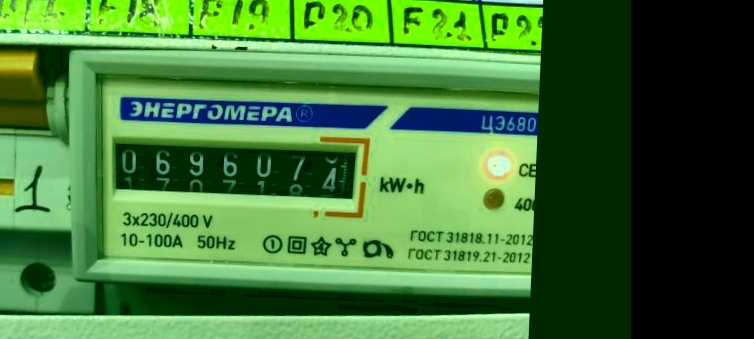0: (117, 146, 140, 175), (254, 149, 274, 179), (154, 148, 172, 174)
4: (320, 165, 338, 194)
6: (219, 147, 239, 178)
7: (287, 151, 307, 181)
9: (186, 148, 206, 177)
screen: (95, 122, 372, 218)
